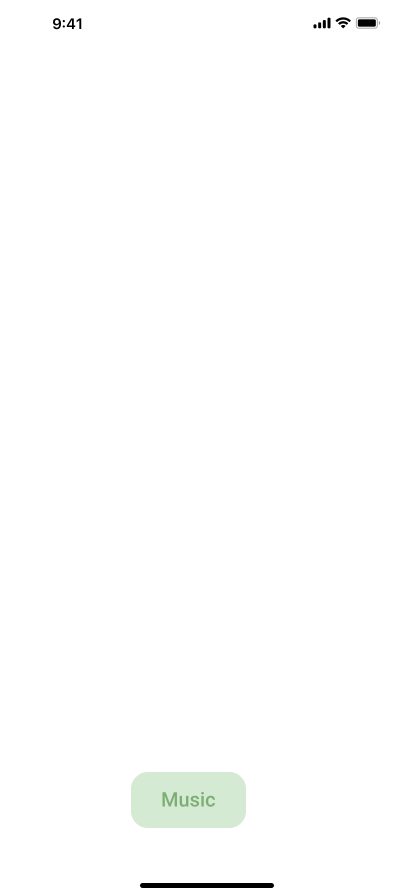Buttons: (131, 772, 254, 828)
Home Indicator: (0, 862, 414, 896)
Status Bar: (0, 0, 414, 44)
